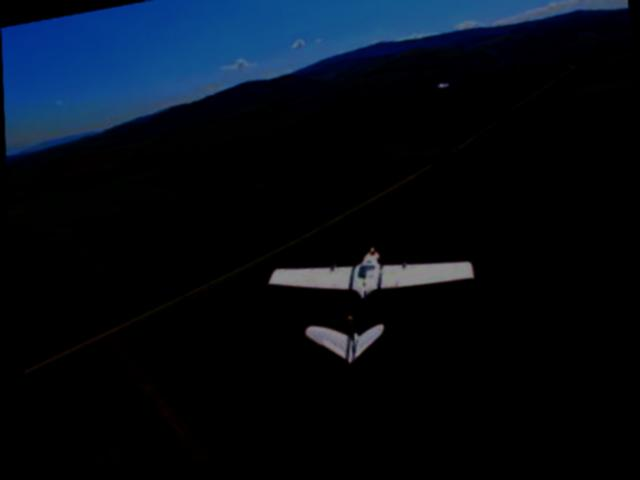uav: (252, 226, 486, 402)
